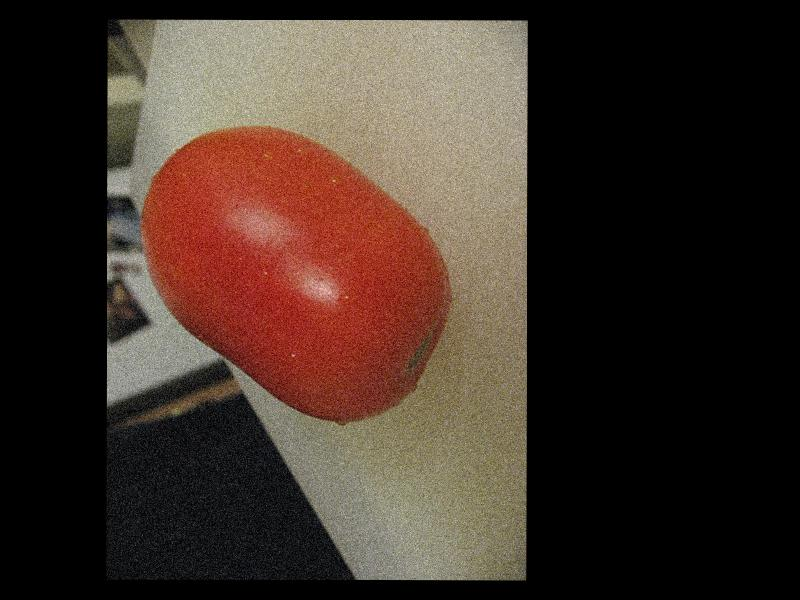Tomato: (139, 126, 449, 423)
